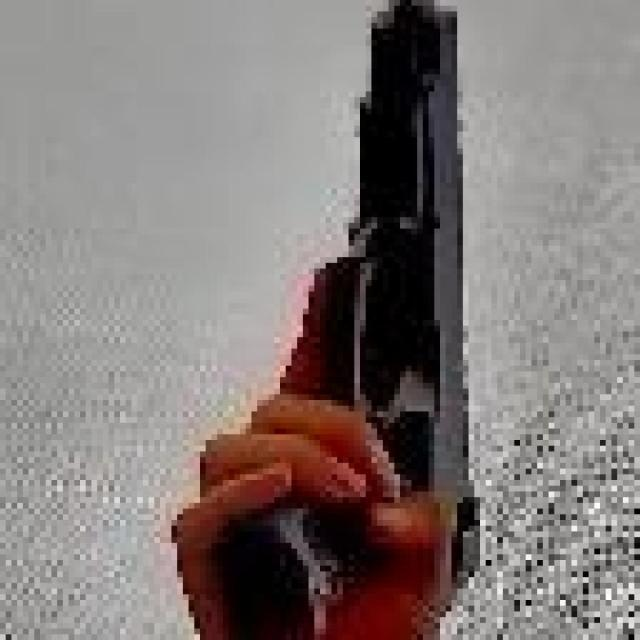pistol: (198, 0, 532, 633)
